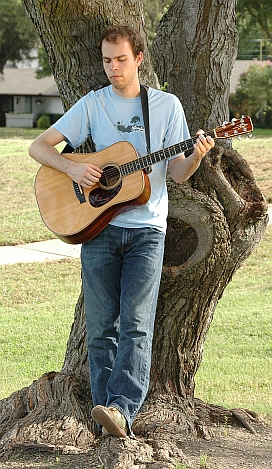guitar: (34, 113, 256, 244)
